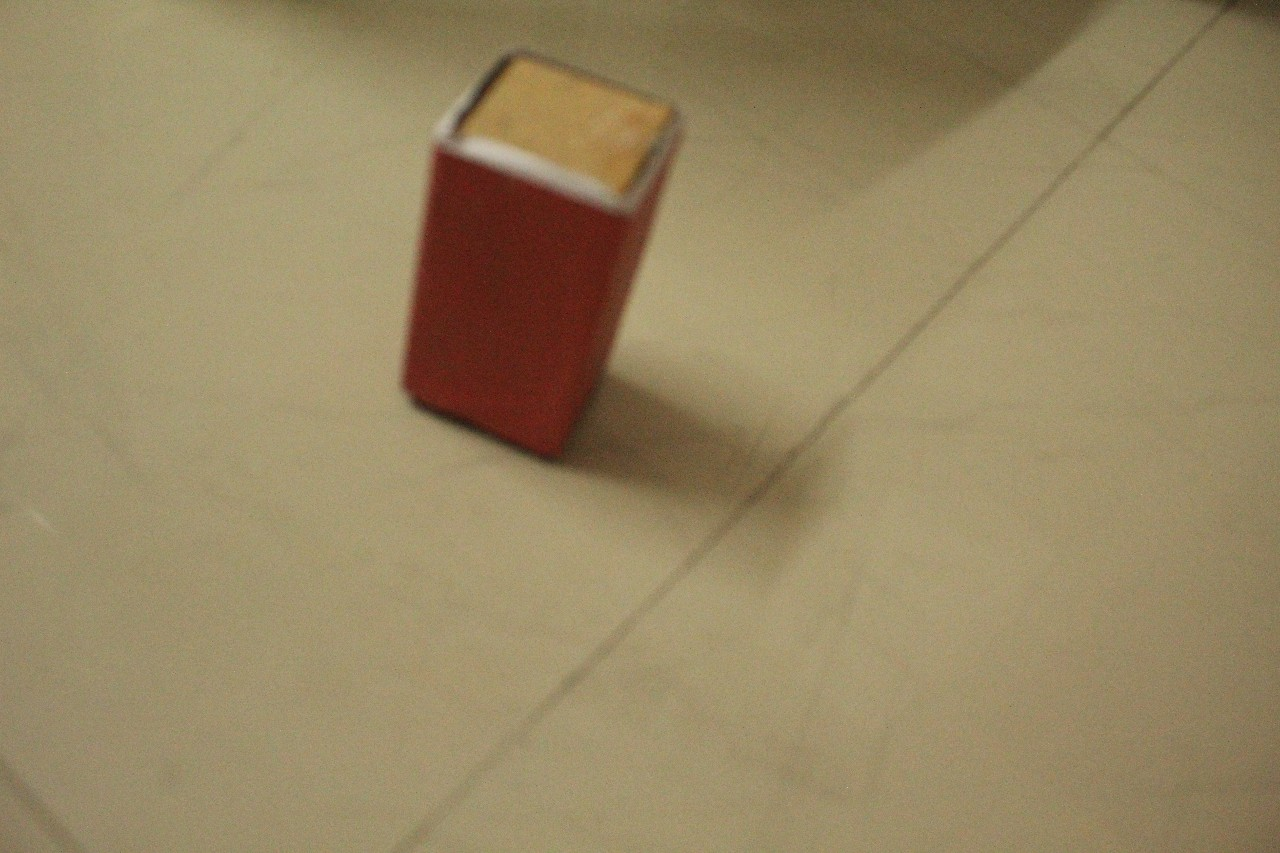red: (390, 133, 680, 488)
